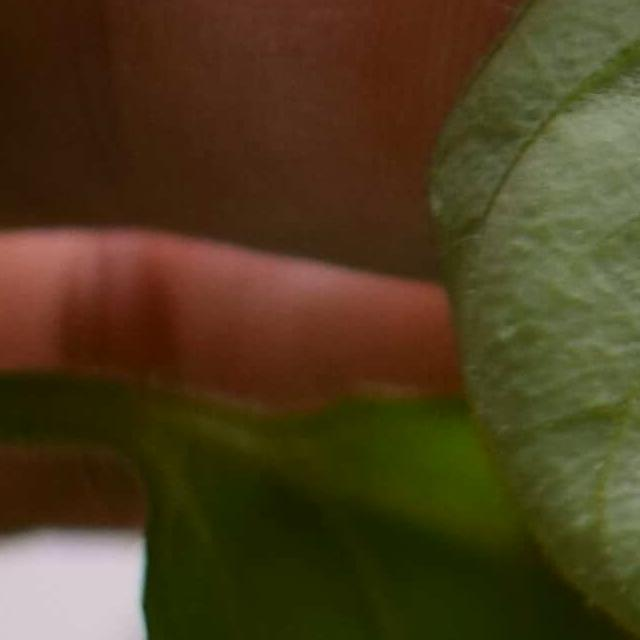Tomato mold leaf: (531, 0, 640, 640)
